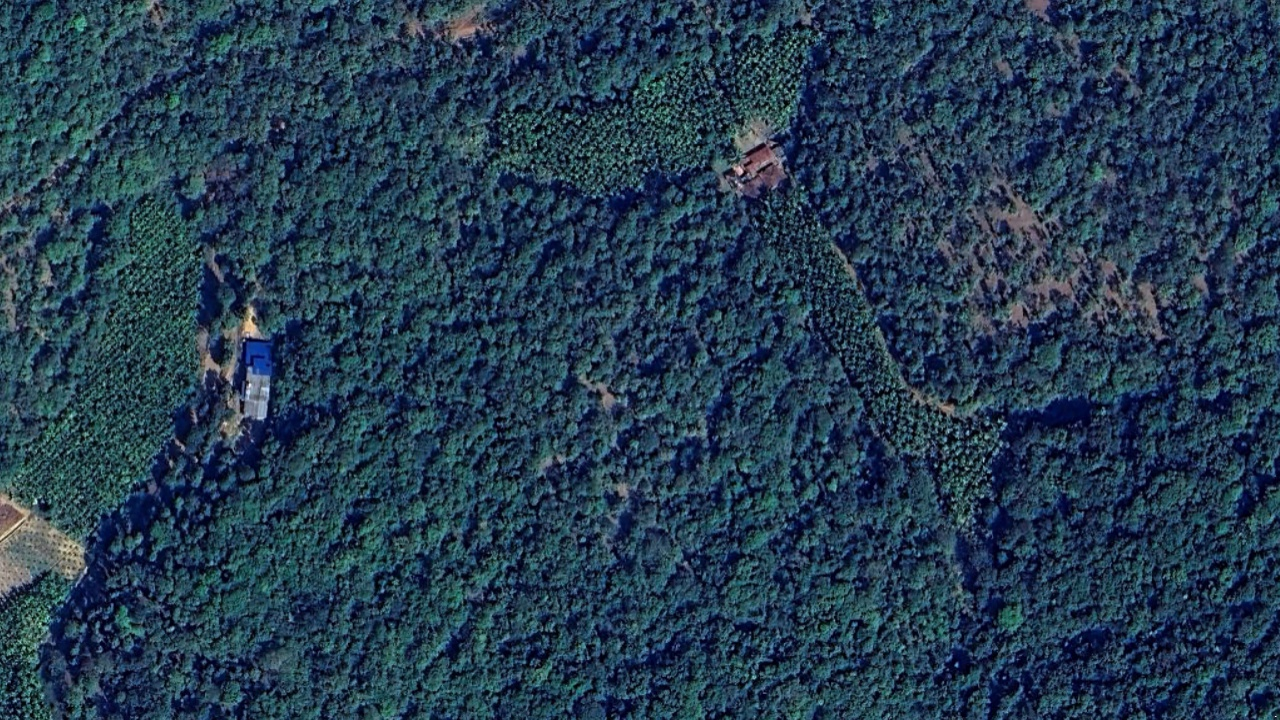arecanut: (750, 184, 1014, 547), (11, 193, 211, 548), (483, 25, 816, 195), (3, 571, 74, 718)
